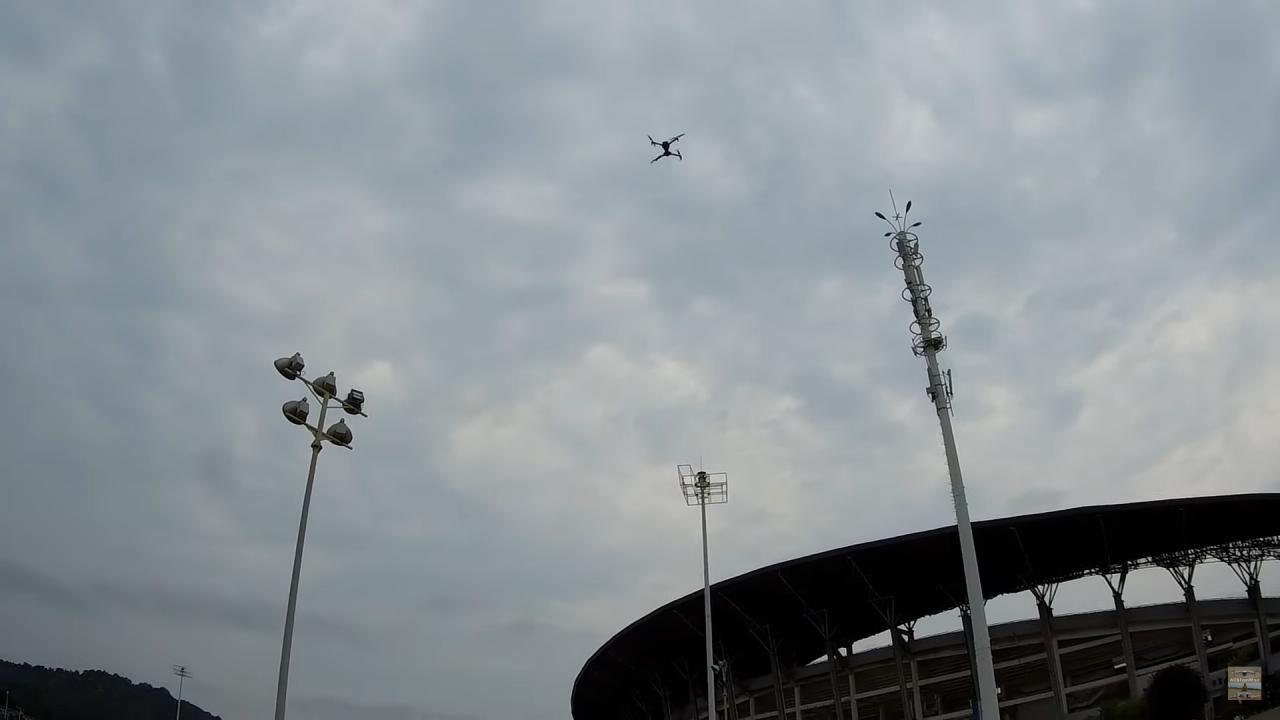Drone: (640, 126, 694, 171)
